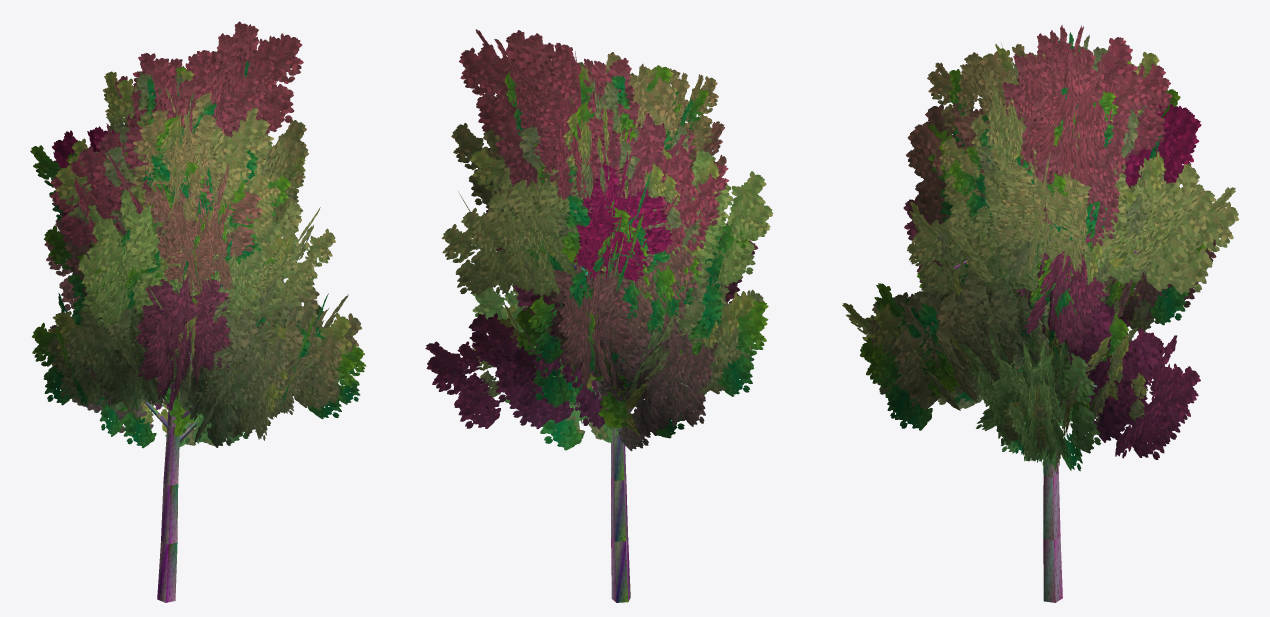
File: nat_birch_b_LOD1.glb
3 renders of one model, left to right at view 1: azimuth 30°, elevation 25°; view 2: azimuth 150°, elevation 25°; view 3: azimuth 270°, elevation 25°, orthographic. The views are drawn at different scales.
Visible parts, largest first — view 1: nat_birch_b_LOD1; view 2: nat_birch_b_LOD1; view 3: nat_birch_b_LOD1.
Boxes of the visible parts, left/top/right/bottom form: nat_birch_b_LOD1: left=30, top=21, right=366, bottom=602; nat_birch_b_LOD1: left=425, top=29, right=773, bottom=602; nat_birch_b_LOD1: left=842, top=25, right=1238, bottom=602.
Size of the model in its own units: 4.45 by 7.43 by 4.88.
Materials: 2 (2 with a texture image).
